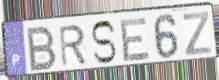6: (152, 13, 180, 61)
B: (26, 24, 59, 74)
E: (119, 15, 152, 64)
R: (57, 24, 88, 69)
S: (90, 19, 118, 65)
Z: (182, 11, 213, 57)
